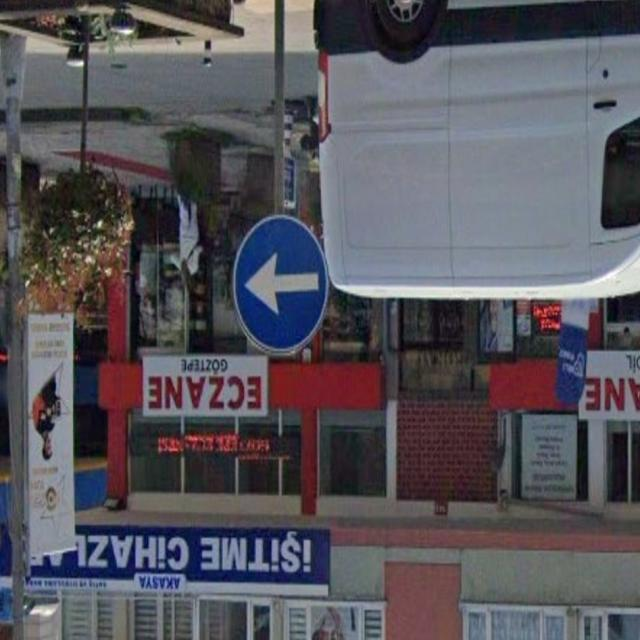Turn Left: (236, 212, 330, 360)
